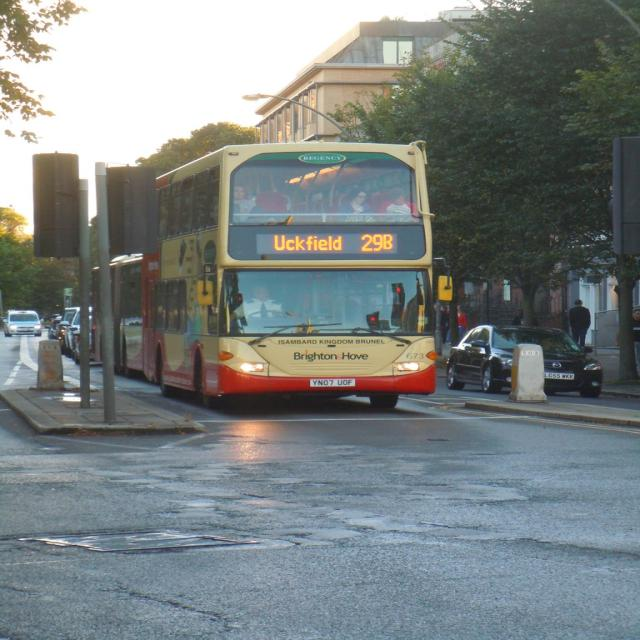Buses: (142, 143, 436, 413)
Passenger Car: (446, 326, 586, 395)
